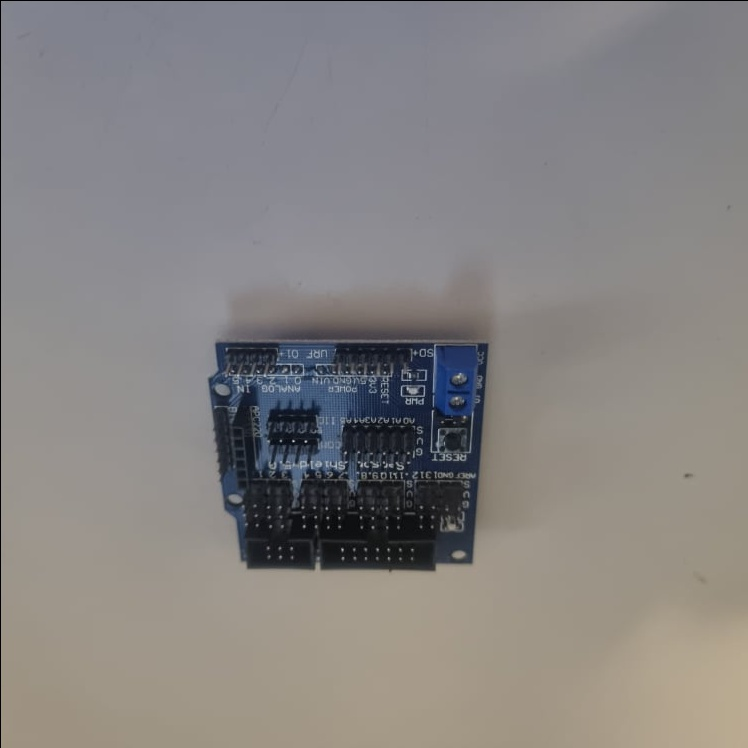5V EXPANSION: (202, 334, 490, 577)
